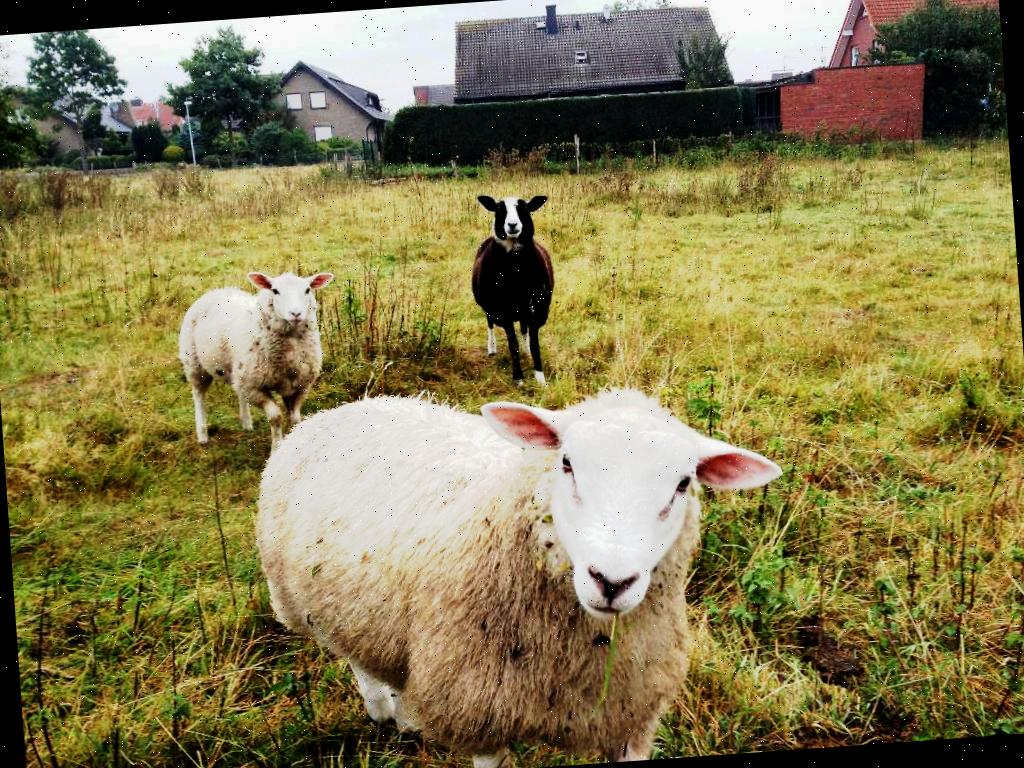Sheep: (248, 370, 804, 768), (176, 266, 349, 460), (462, 192, 564, 390)
